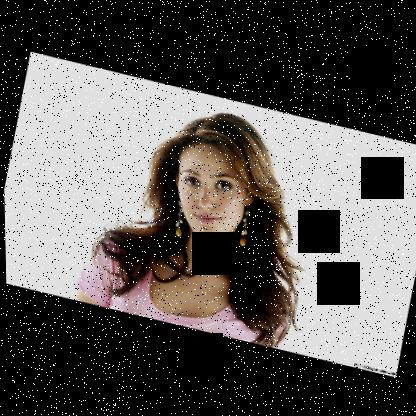Female: (161, 135, 264, 247)
